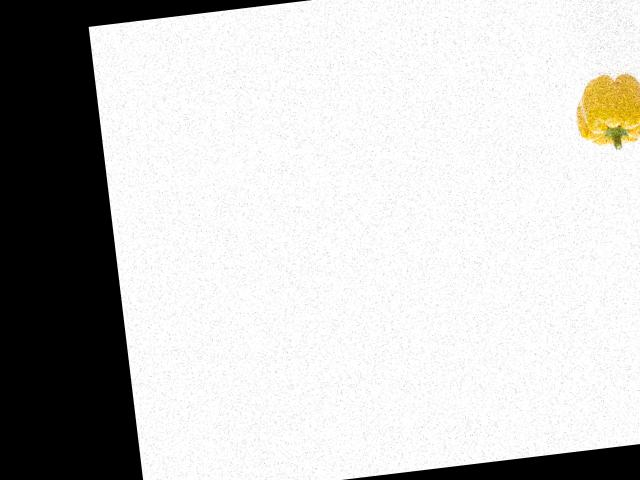bell_pepper: (566, 68, 640, 157)
